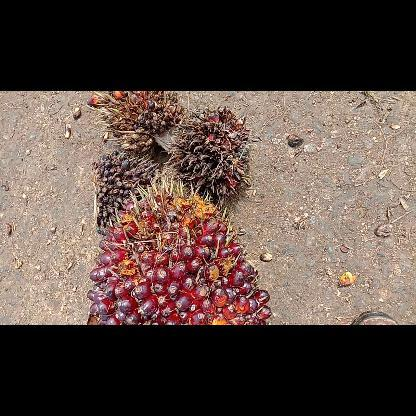TBS abnormal: (169, 106, 251, 210), (81, 92, 183, 156), (90, 150, 162, 230)
TBS masak: (84, 168, 274, 324)
